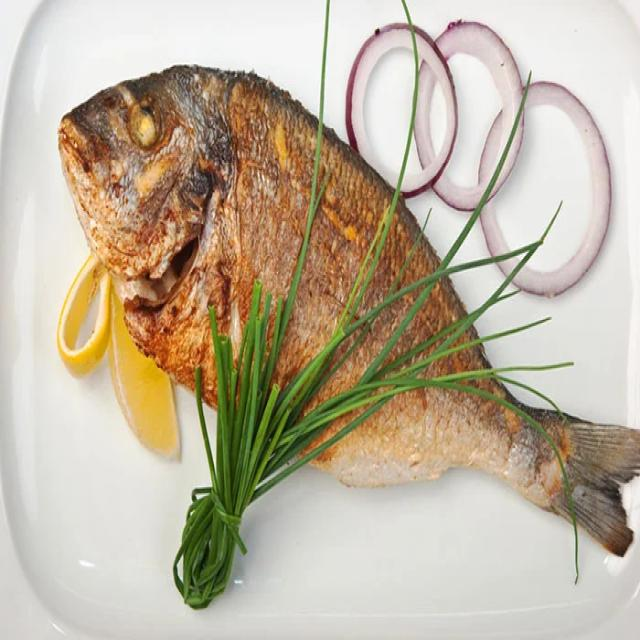Peixe: (56, 60, 637, 563)
